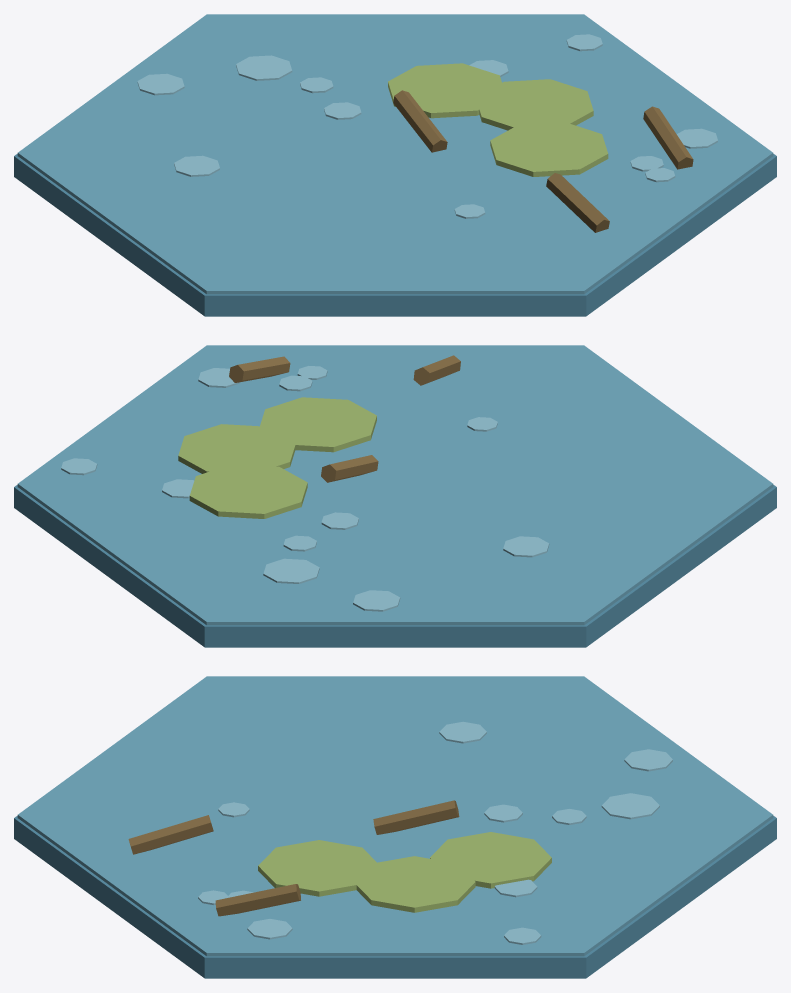
Rendered from water_to_forest.glb.
3 views of the same model, one above another, from view 1: azimuth 30°, elevation 25°; view 2: azimuth 150°, elevation 25°; view 3: azimuth 270°, elevation 25° (orthographic).
Visible parts, largest first — view 1: plate; view 2: plate; view 3: plate.
Part boxes in pixels (bbox=[...]): plate: bbox=[14, 14, 776, 316]; plate: bbox=[14, 345, 776, 647]; plate: bbox=[14, 676, 776, 978].
Size of the model in its own units: 1.73 by 0.1626 by 2.
